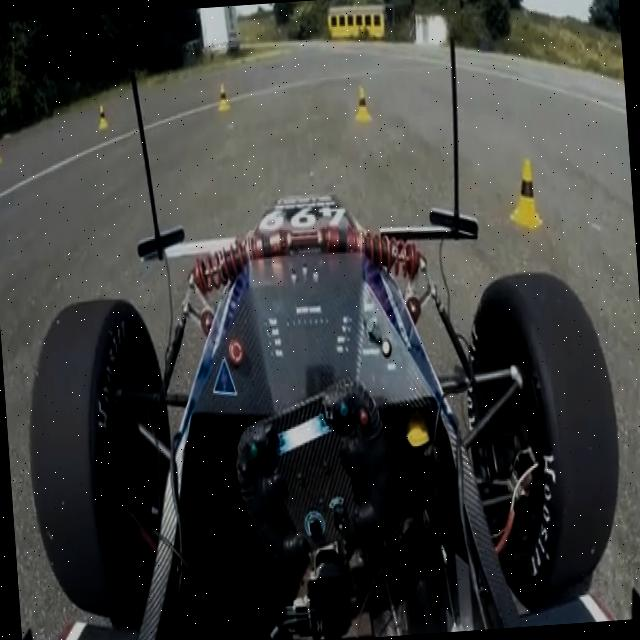yellow_cone: (506, 157, 542, 231), (353, 86, 372, 122), (216, 83, 230, 111), (97, 104, 109, 130), (0, 139, 3, 166)
